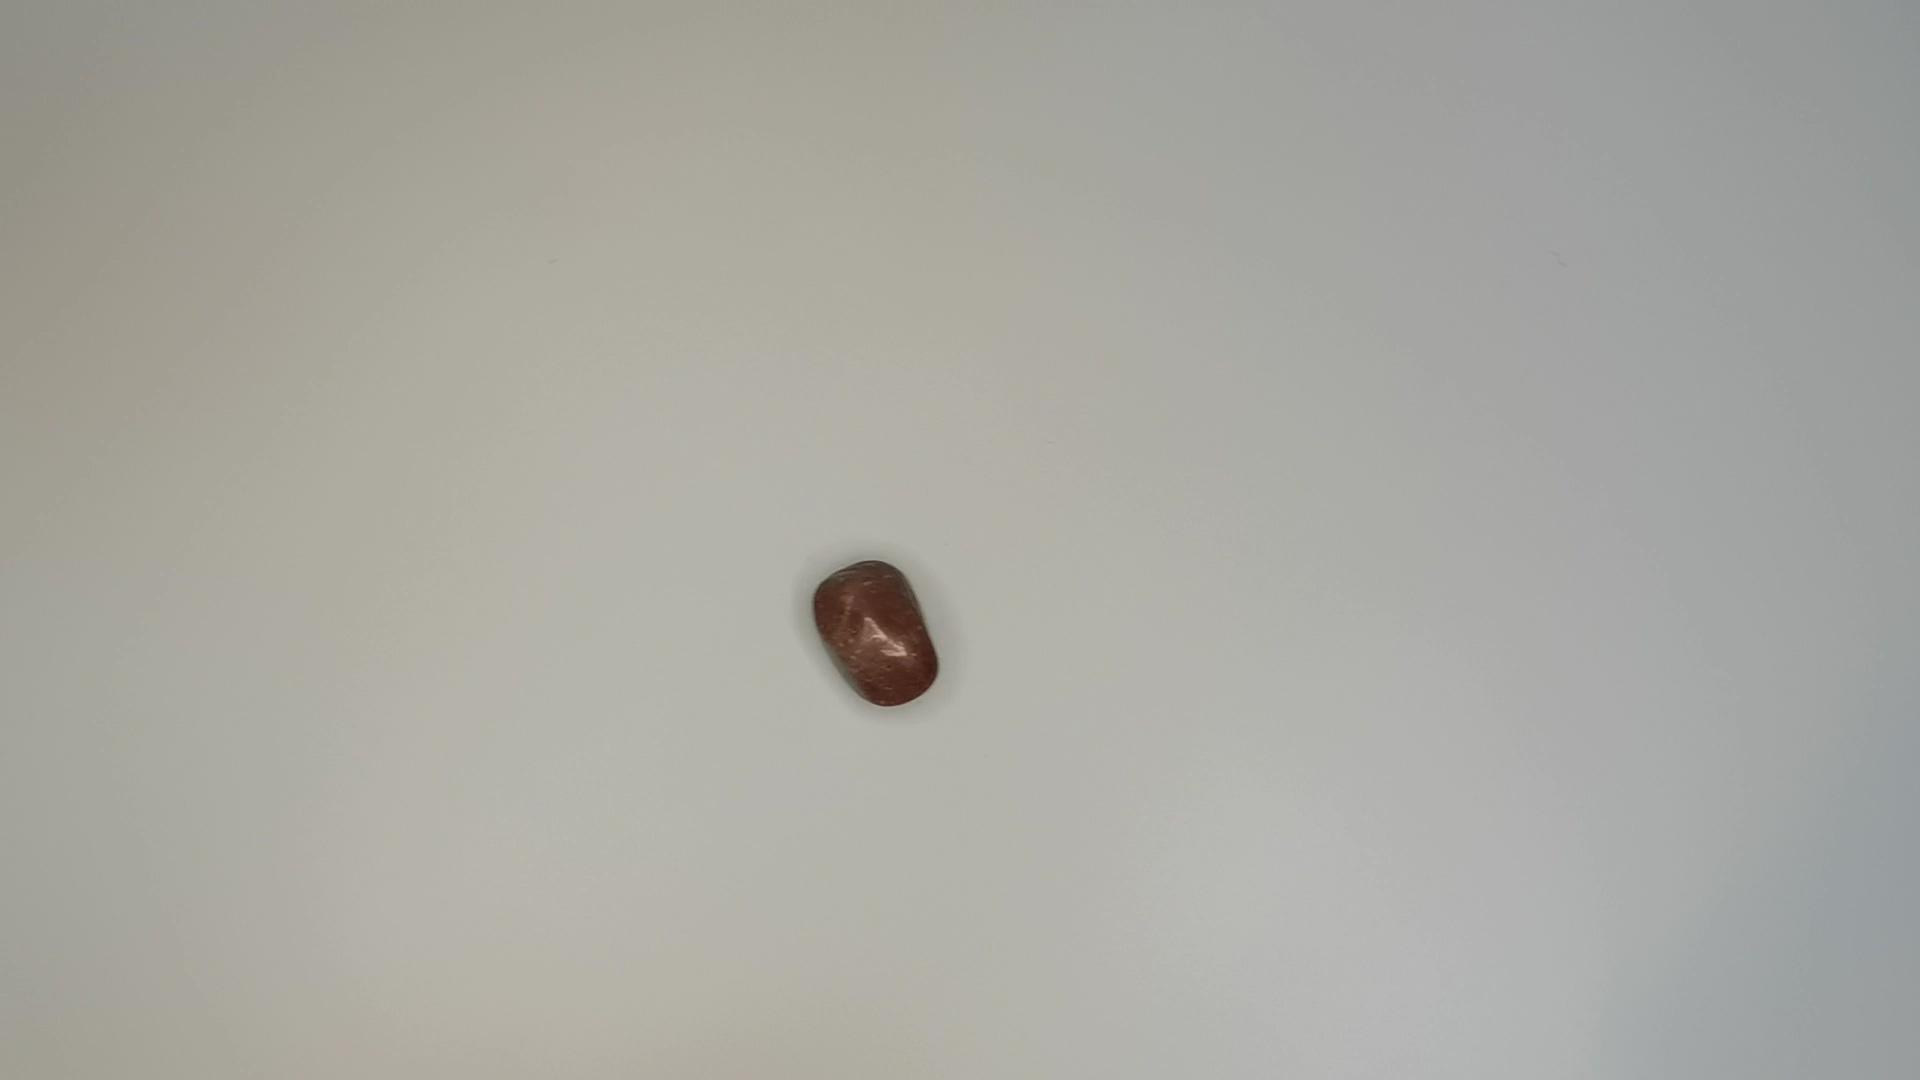ceramic: (796, 553, 955, 716)
